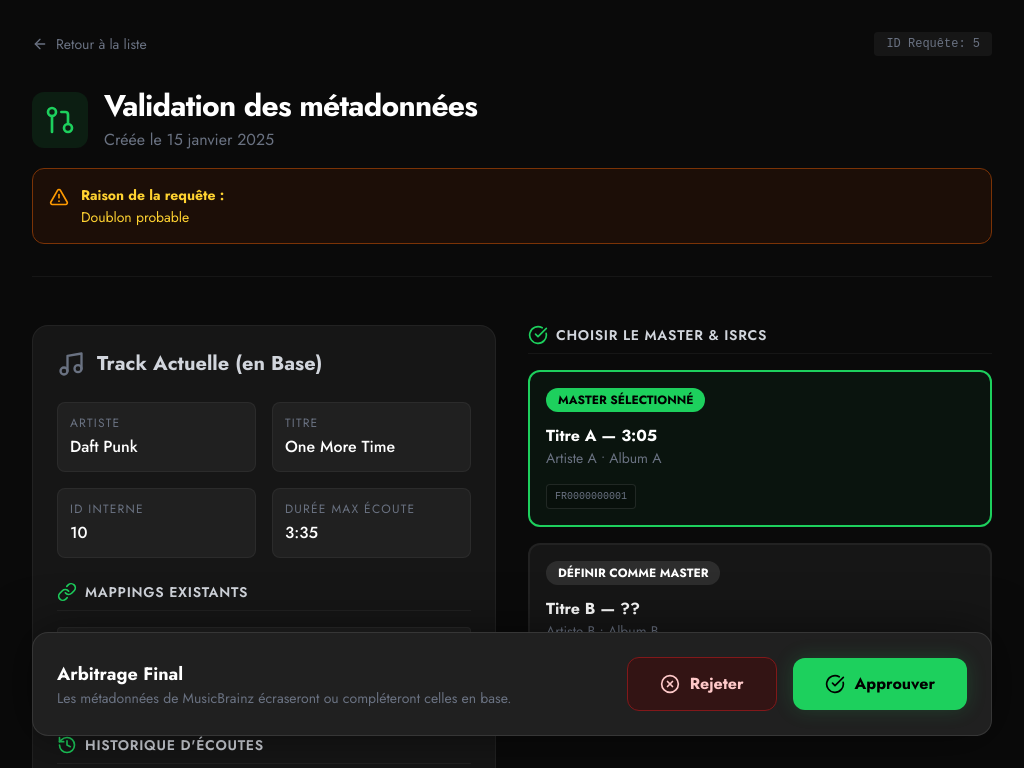
Test case: CreateRequestDetailPage - suggestions › changer de master via le bouton déplace la sélection
Expected: the heading "Validation des métadonnées" is shown, 104,88 -> 477,124
Click the button "DÉFINIR COMME MASTER" at (633,573), box 546,561 -> 720,585
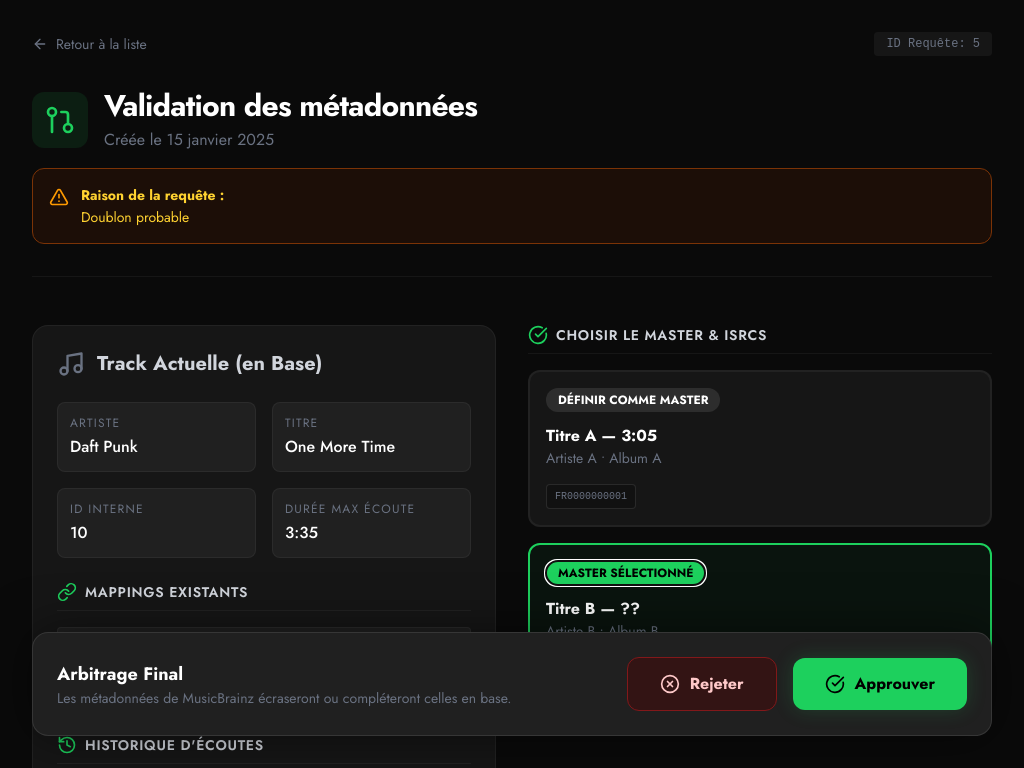
Expected: the number of buttons "MASTER SÉLECTIONNÉ" is 1, 546,561 -> 705,585
Expected: the button "MASTER SÉLECTIONNÉ" is shown, 546,561 -> 705,585
